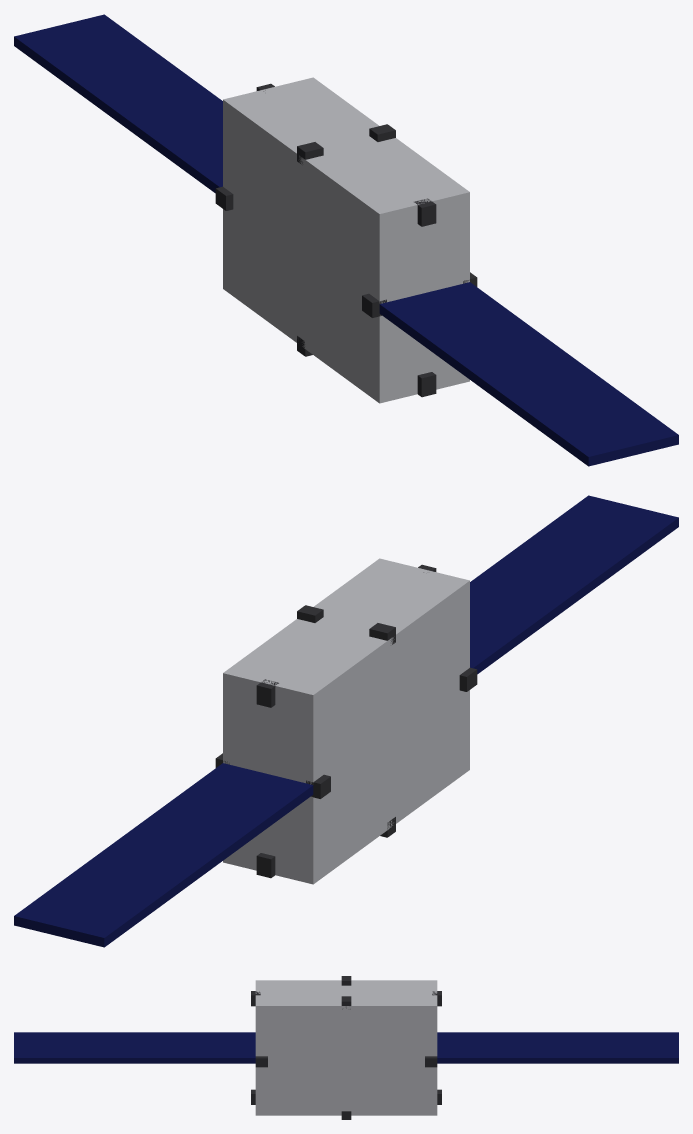
Rendered from viz_best_config.obj.
3 views of the same model, one above another, from view 1: azimuth 30°, elevation 25°; view 2: azimuth 150°, elevation 25°; view 3: azimuth 270°, elevation 25° (orthographic). The views are drawn at different scales.
Size of the model in its own units: 0.116 by 0.216 by 1.1.
